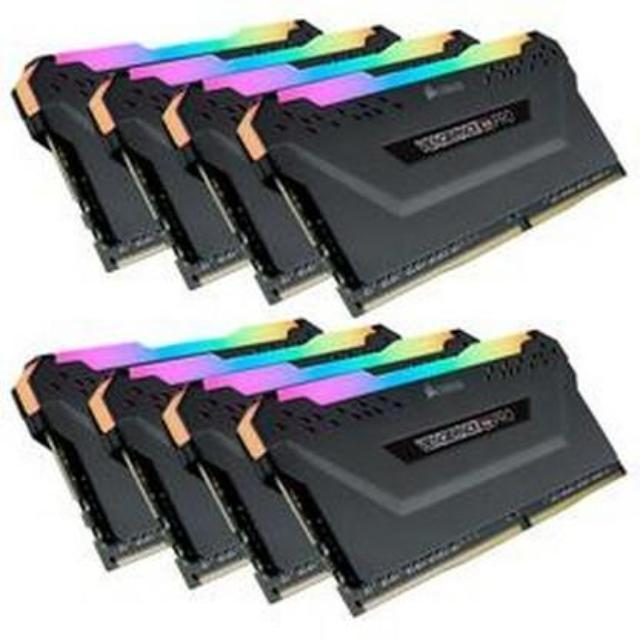RAM: (4, 318, 638, 640), (6, 8, 632, 320)
